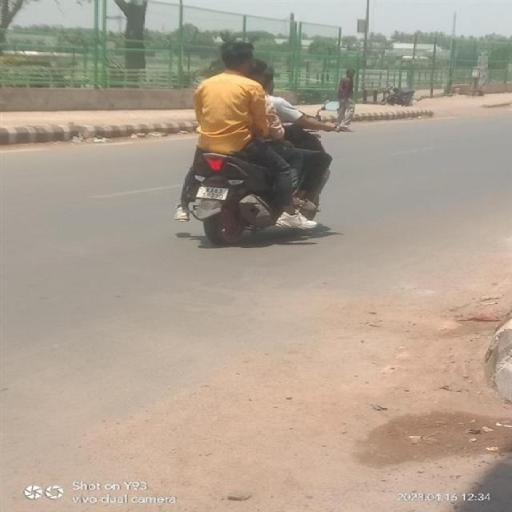tripple riding: (188, 44, 342, 148)
